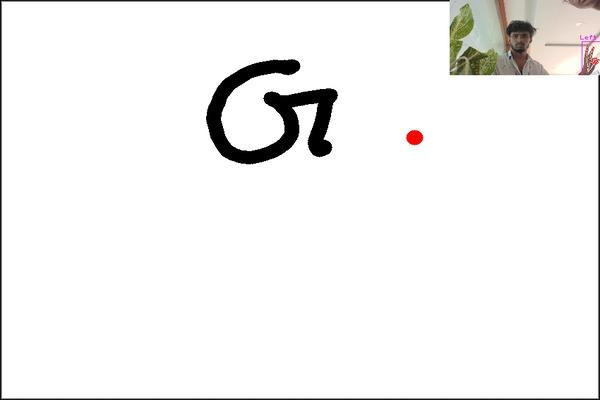G: (201, 54, 342, 170)
